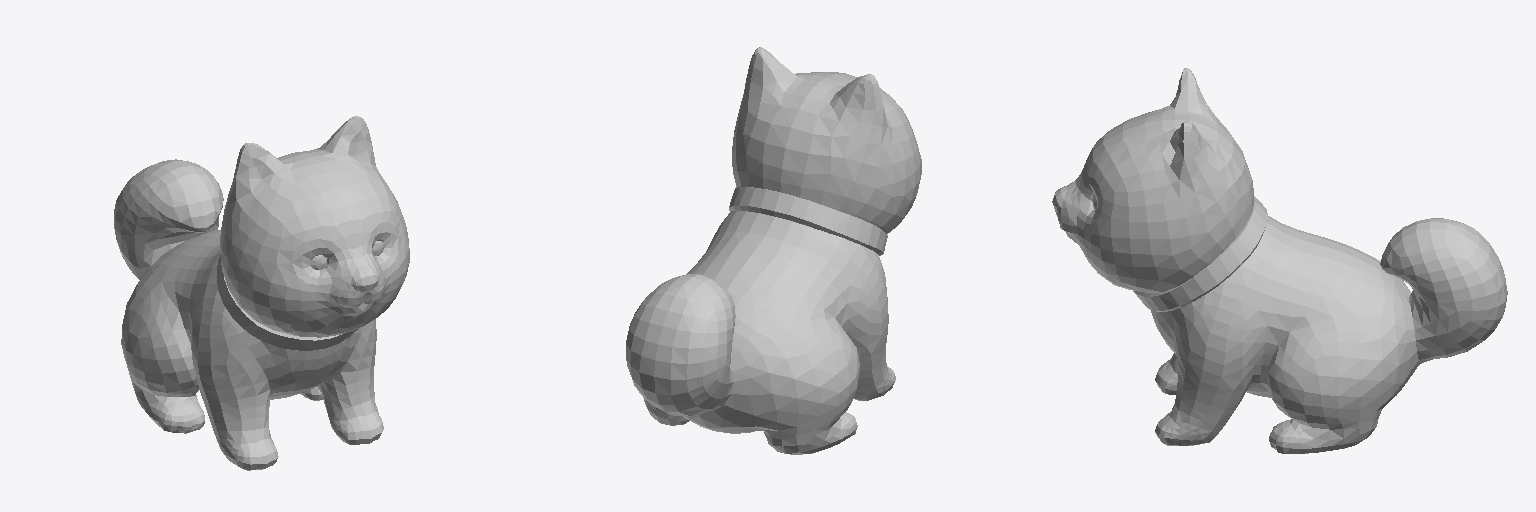
Rendered from dog2.obj.
3 views of the same model, side by side, from view 1: azimuth 30°, elevation 25°; view 2: azimuth 150°, elevation 25°; view 3: azimuth 270°, elevation 25° (orthographic).
Visible parts, largest first — view 1: Box002_Mesh.001, Group18985_Mesh; view 2: Box002_Mesh.001, Group18985_Mesh; view 3: Box002_Mesh.001, Group18985_Mesh.
Boxes of the visible parts, box(x1,y1,x2,y2) form: Box002_Mesh.001: box(114, 116, 409, 470); Group18985_Mesh: box(216, 254, 358, 350); Box002_Mesh.001: box(626, 47, 921, 454); Group18985_Mesh: box(729, 187, 887, 255); Box002_Mesh.001: box(1052, 68, 1507, 453); Group18985_Mesh: box(1133, 196, 1267, 311).
Bounding box in the file's own units: 0.9209 × 1.38 × 1.77.